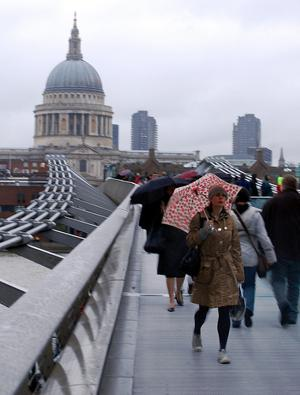person: (187, 186, 246, 365)
